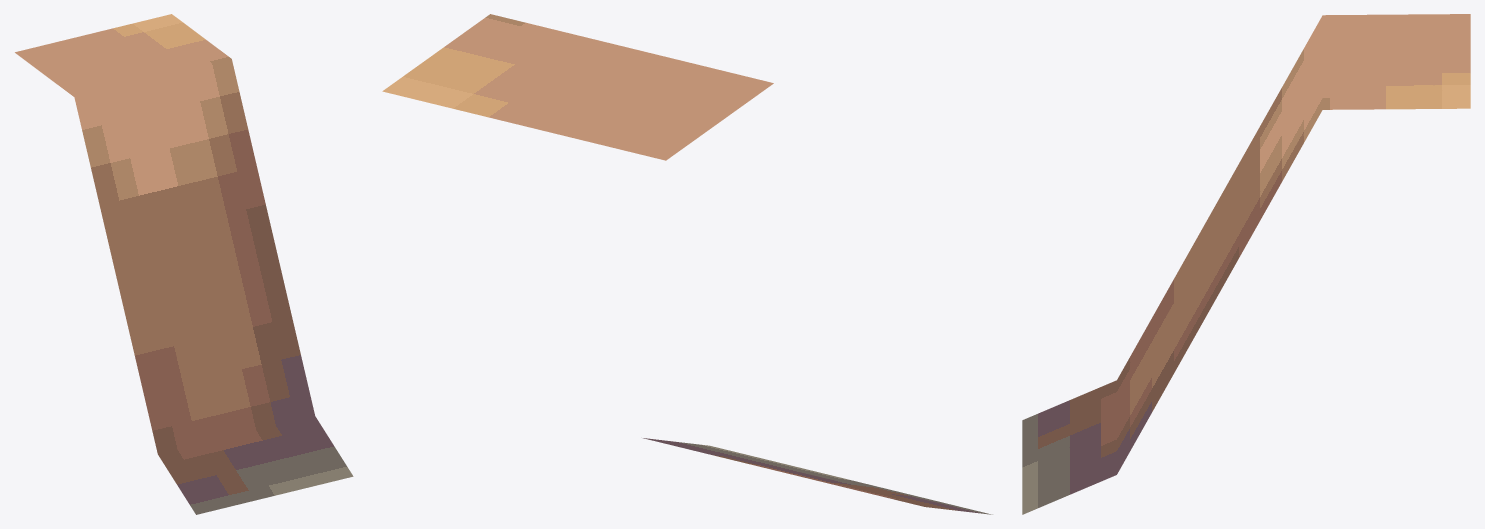
The picture shows the model from 3 angles, left to right: view 1: azimuth 30°, elevation 25°; view 2: azimuth 150°, elevation 25°; view 3: azimuth 270°, elevation 25°; orthographic projection. The views are drawn at different scales.
Bounding box in the file's own units: 0.5 × 1 × 1.
Materials: 1 (1 with a texture image).
